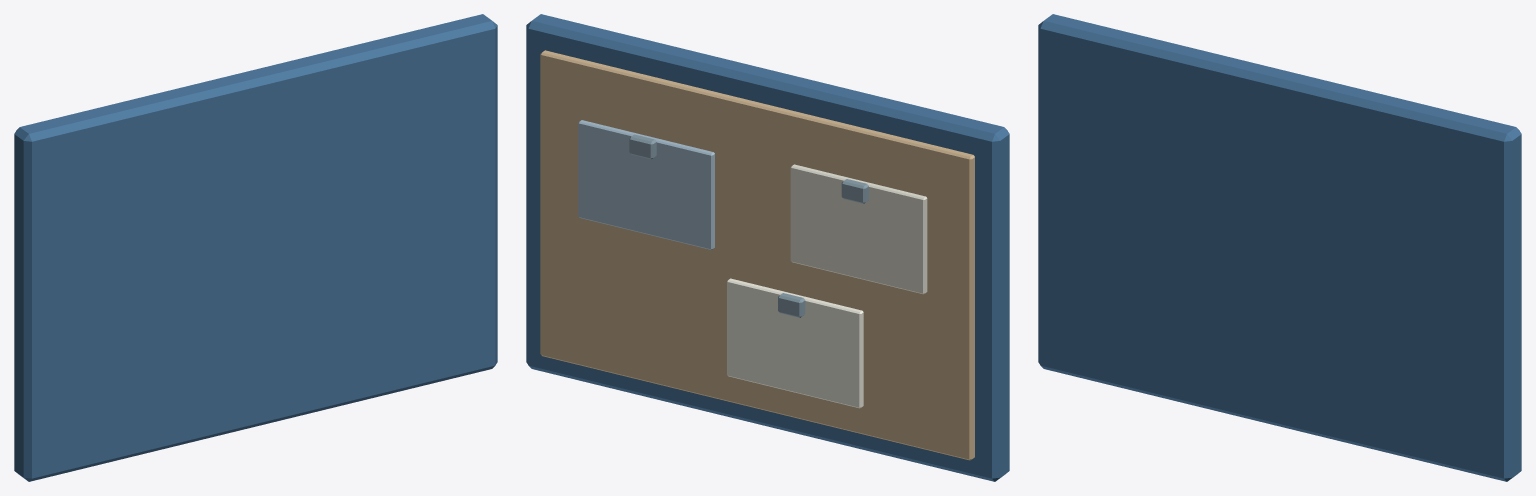
File: clipped_notice_panel.glb
The picture shows the model from 3 angles, left to right: view 1: azimuth 30°, elevation 25°; view 2: azimuth 150°, elevation 25°; view 3: azimuth 330°, elevation 25°; orthographic projection.
Visible parts, largest first — view 1: notice_frame; view 2: notice_board, notice_frame, notice_sheet (×3), notice_clip (×3); view 3: notice_frame.
Part boxes in pixels (box(x1,y1,x2,y2)): notice_frame: box(14, 14, 497, 481); notice_board: box(540, 50, 974, 460); notice_frame: box(526, 14, 1009, 481); notice_sheet (×3): box(578, 120, 927, 408); notice_clip (×3): box(629, 134, 868, 317); notice_frame: box(1038, 14, 1521, 481).
Bounding box in the file's own units: 0.67 × 0.47 × 0.0715.
